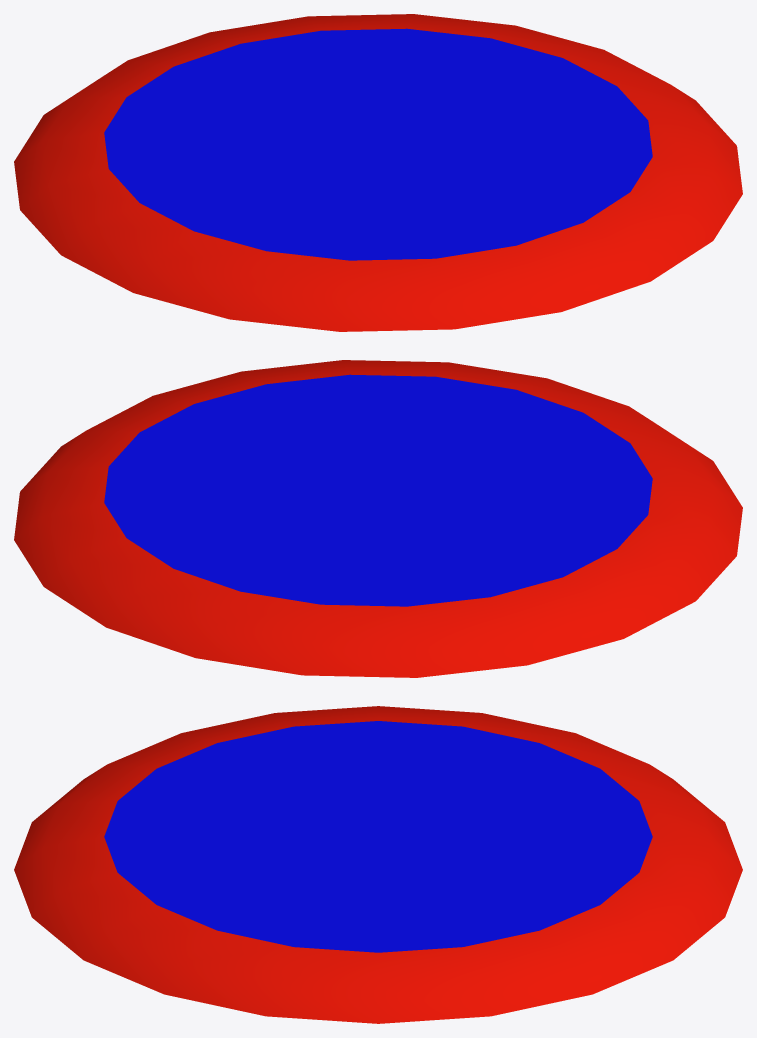
File: Jumppad.fbx
3 renders of one model, top to bottom at view 1: azimuth 30°, elevation 25°; view 2: azimuth 150°, elevation 25°; view 3: azimuth 270°, elevation 25°, orthographic.
Visible parts, largest first — view 1: Cylinder; view 2: Cylinder; view 3: Cylinder.
Boxes of the visible parts, x1,y1,x2,y2 form: Cylinder: (14,14,742,331); Cylinder: (14,360,742,677); Cylinder: (14,706,742,1023).
Size of the model in its own units: 300 by 15 by 300.
